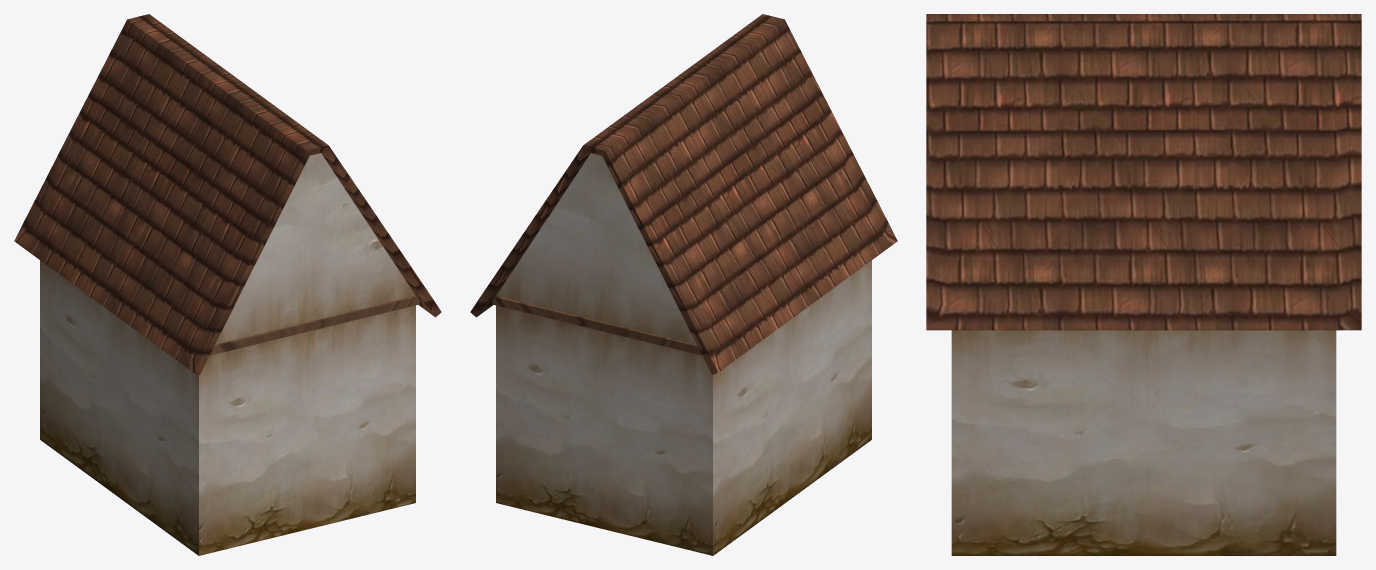
The model's file is House_Main.fbx.
3 renders of one model, left to right at view 1: azimuth 30°, elevation 25°; view 2: azimuth 150°, elevation 25°; view 3: azimuth 270°, elevation 25°, orthographic. The views are drawn at different scales.
Visible parts, largest first — view 1: pCube1; view 2: pCube1; view 3: pCube1.
Part boxes in pixels (x1,y1,x2,y2): pCube1: (14, 14, 441, 555); pCube1: (470, 14, 897, 555); pCube1: (926, 14, 1361, 555).
Bounding box in the file's own units: 14.82 × 22.21 × 18.58.
